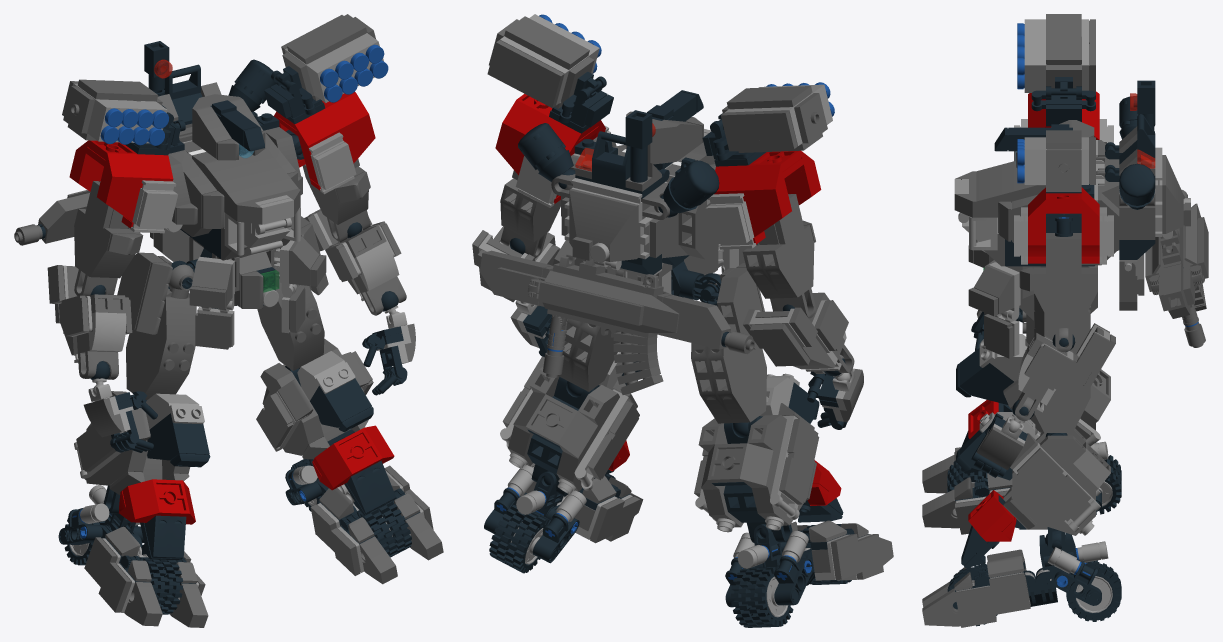
File: hacs-01lg-sct-cheetah-mk-ii.dae
3 views of the same model, side by side, from view 1: azimuth 30°, elevation 25°; view 2: azimuth 150°, elevation 25°; view 3: azimuth 270°, elevation 25° (orthographic). The views are drawn at different scales.
Bounding box in the file's own units: 413 × 320 × 610.
